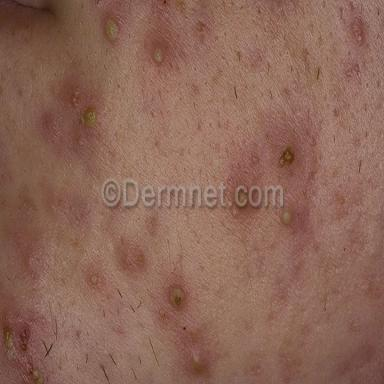acne: (1, 309, 46, 383), (273, 135, 304, 181), (186, 332, 208, 373), (122, 242, 145, 271), (42, 114, 61, 144), (168, 283, 186, 308), (151, 39, 168, 65), (86, 265, 104, 289), (25, 254, 42, 278), (78, 106, 97, 127), (352, 18, 365, 43), (106, 19, 118, 41), (71, 89, 85, 106), (146, 217, 158, 236), (196, 20, 205, 43), (282, 209, 291, 225), (251, 152, 259, 167), (77, 136, 85, 146)
